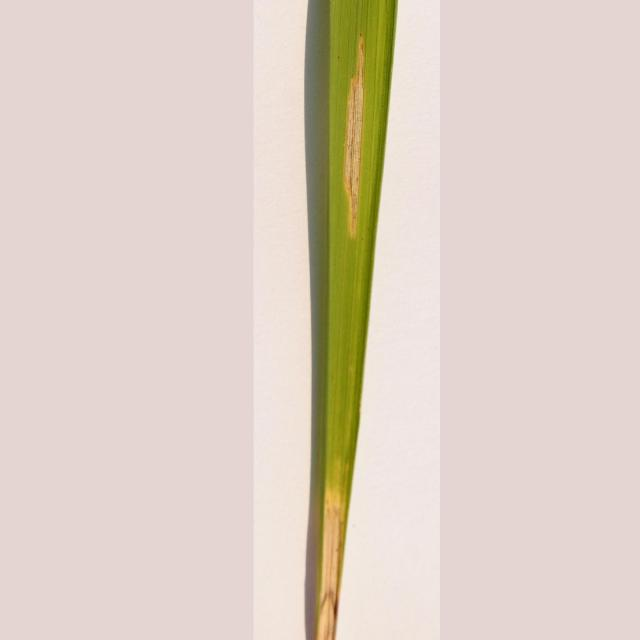Bacterial leaf blight: (308, 484, 349, 640), (340, 30, 368, 247)
